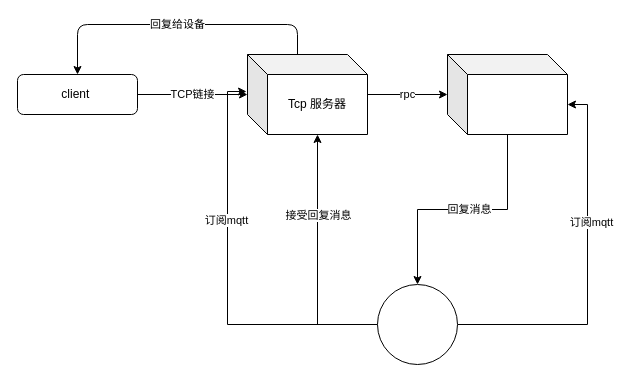
Image size: 630x382. Some labels were removed from this diagram. The shapes that lost their labels are listed below. From the top down, each one's centre as x and y in pixels, then its label:
At [507,94]: "业务处理服务器".
At [417,324]: "MQTT".
